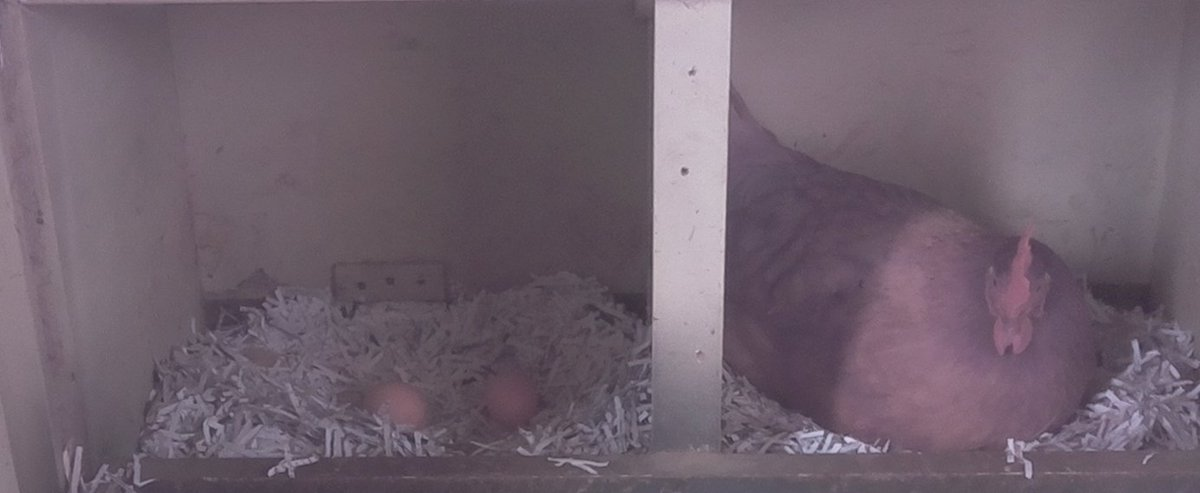egg: (365, 377, 433, 438), (483, 365, 543, 434)
hen: (727, 149, 1103, 456)
